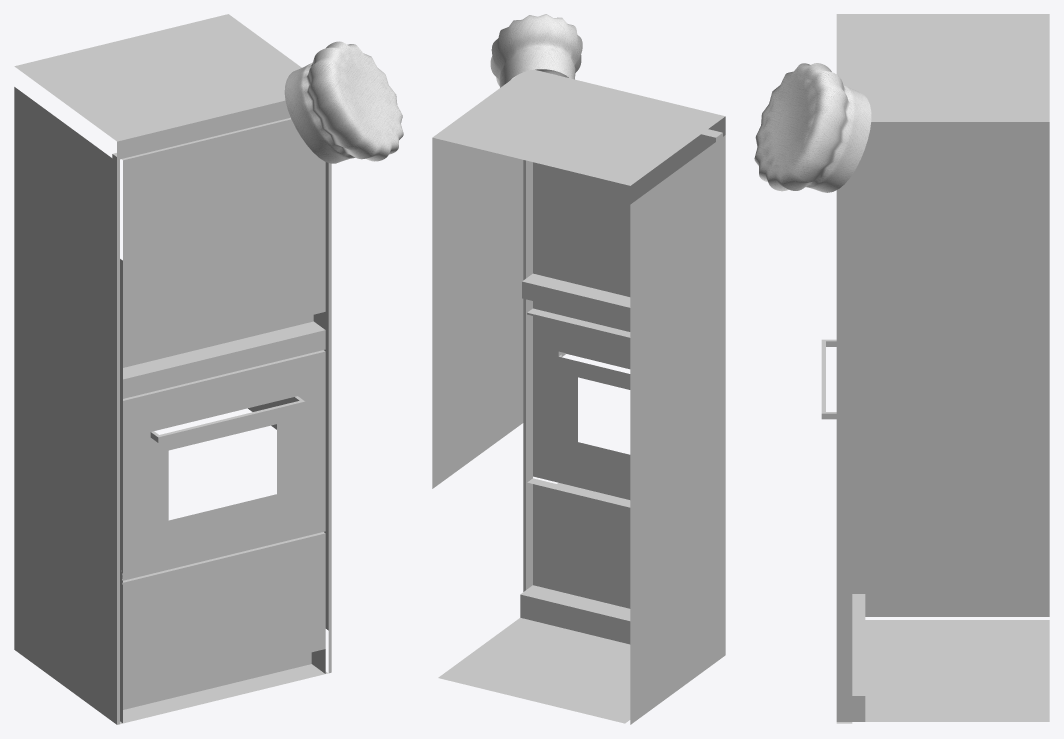
Rendered from fridge.glb.
The picture shows the model from 3 angles, left to right: view 1: azimuth 30°, elevation 25°; view 2: azimuth 150°, elevation 25°; view 3: azimuth 270°, elevation 25°; orthographic projection. The views are drawn at different scales.
Visible parts, largest first — view 1: TabTost, chefhat_1; view 2: TabTost, chefhat_1; view 3: TabTost, chefhat_1.
Boxes of the visible parts, <box> form: TabTost: <box>14,14,331,724</box>; chefhat_1: <box>284,41,403,163</box>; TabTost: <box>432,69,725,724</box>; chefhat_1: <box>490,14,582,87</box>; TabTost: <box>821,14,1049,723</box>; chefhat_1: <box>754,63,871,192</box>.
Size of the model in its own units: 36.62 by 83.53 by 34.03.
2 materials, 1 textured.
